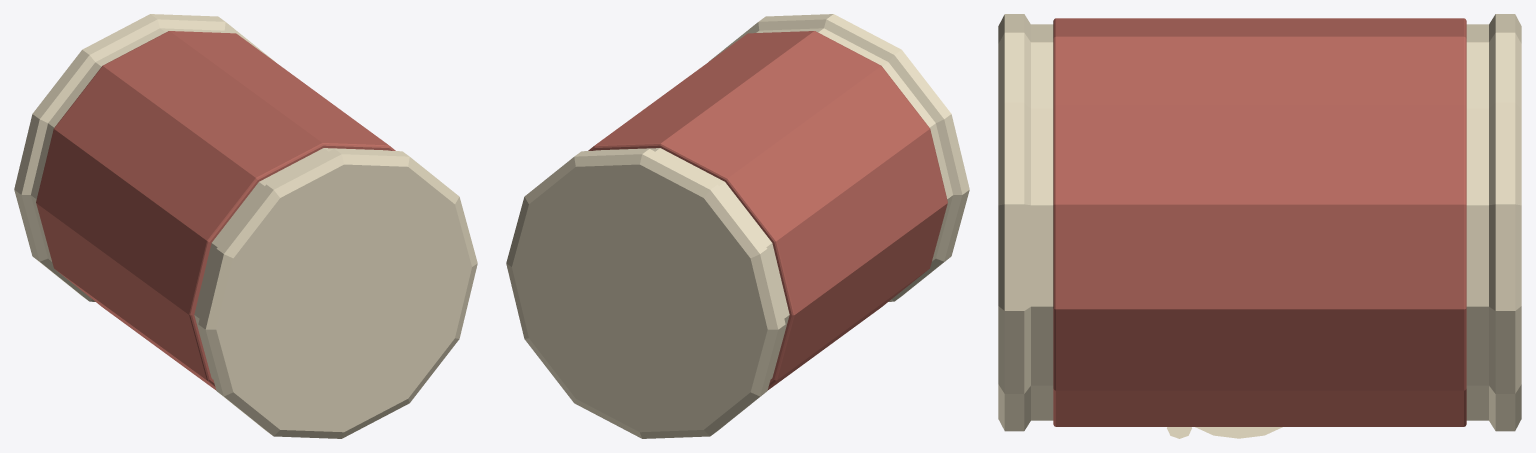
The model's file is tomato_paste.glb.
The picture shows the model from 3 angles, left to right: view 1: azimuth 30°, elevation 25°; view 2: azimuth 150°, elevation 25°; view 3: azimuth 270°, elevation 25°; orthographic projection. The views are drawn at different scales.
Visible parts, largest first — view 1: tomato_paste; view 2: tomato_paste; view 3: tomato_paste.
Part boxes in pixels (x1,y1,x2,y2): tomato_paste: (14,14,477,438); tomato_paste: (506,14,969,438); tomato_paste: (998,14,1521,438).
Bounding box in the file's own units: 0.064 × 0.0652 × 0.08.
